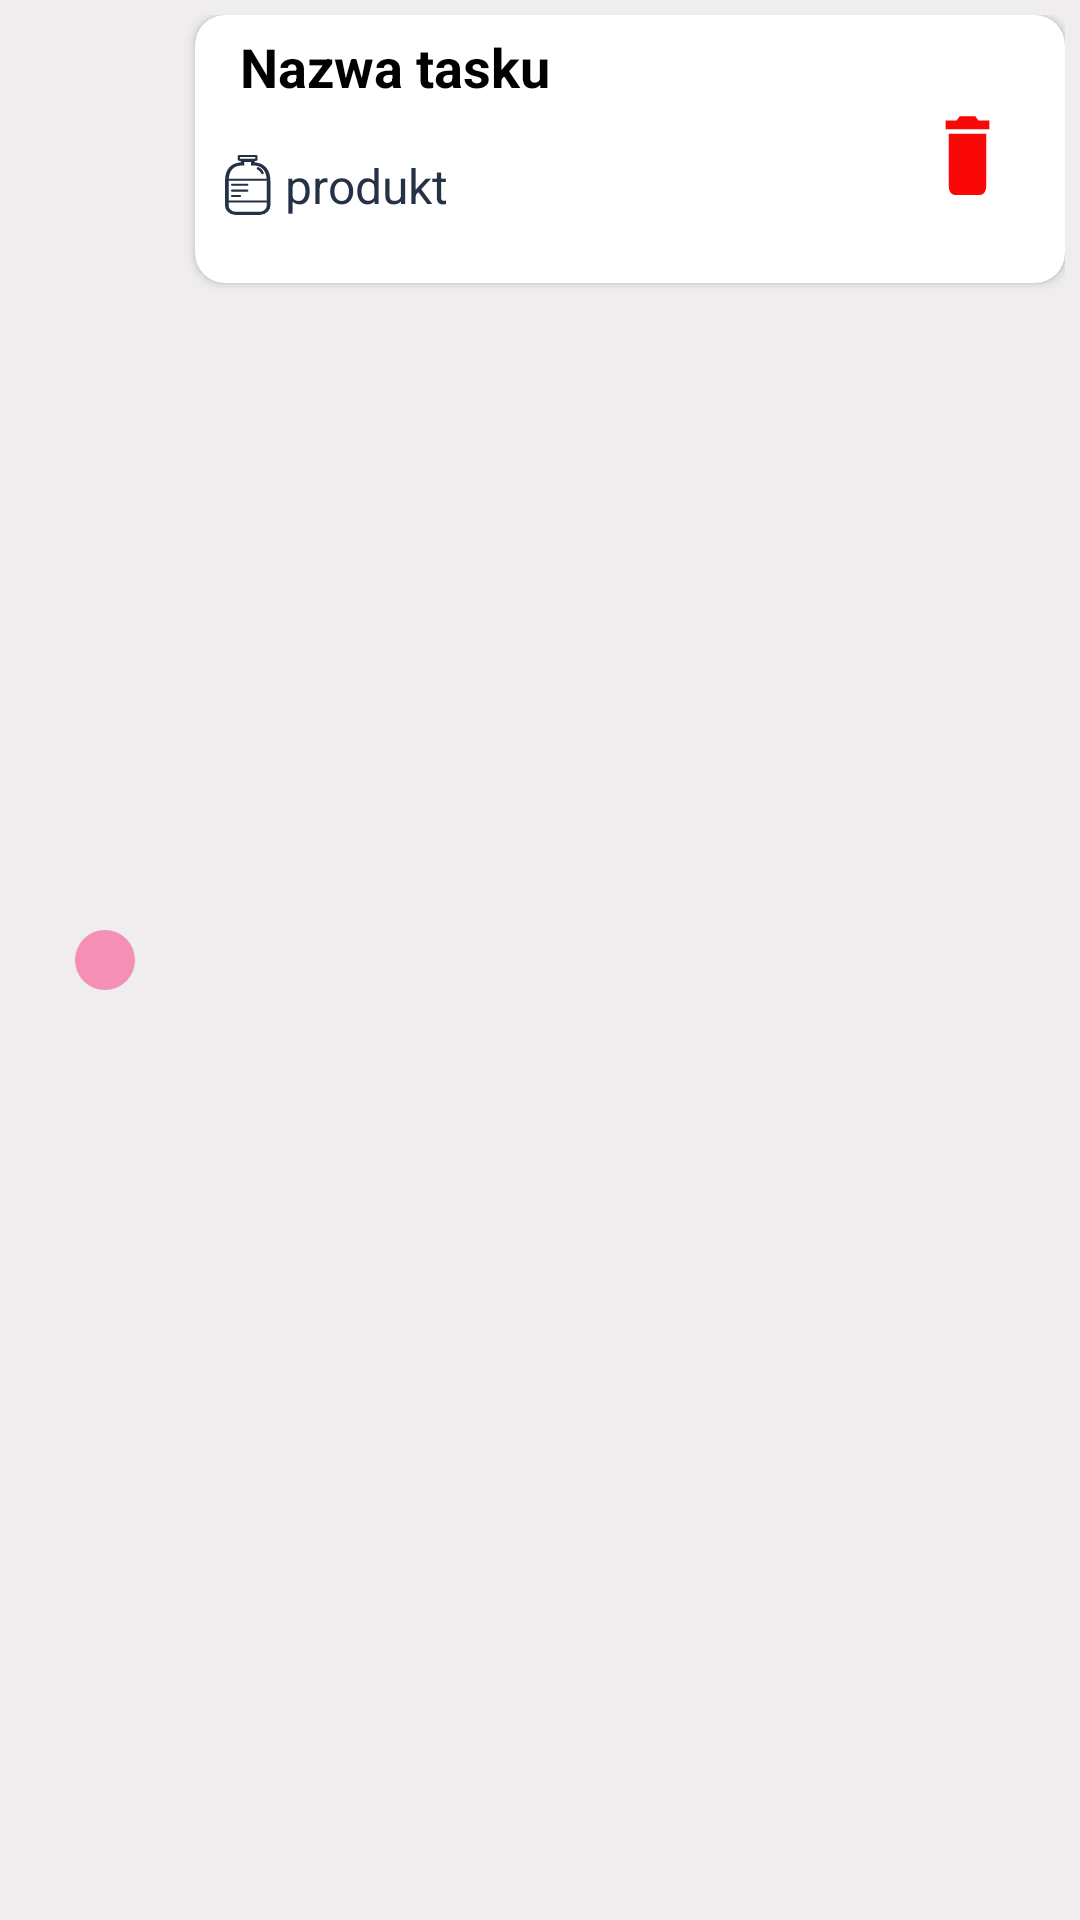

Screen size 1080px x 1920px. Icon name, then its box in pixels as rect(x1, y1, x2, y2):
delete: rect(945, 116, 990, 195)
vial: rect(225, 155, 271, 215)
